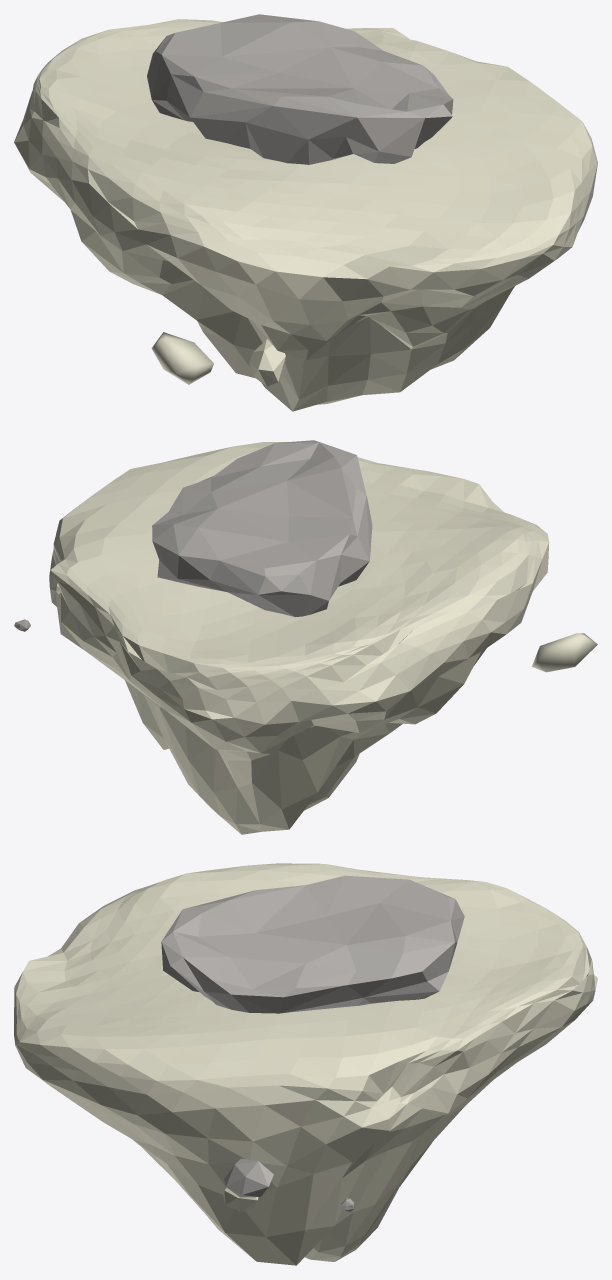
Rendered from asters.fbx.
3 renders of one model, top to bottom at view 1: azimuth 30°, elevation 25°; view 2: azimuth 150°, elevation 25°; view 3: azimuth 270°, elevation 25°, orthographic. The views are drawn at different scales.
Parts seen in each view (by area): view 1: aster_central, aster_1; view 2: aster_central, aster_1; view 3: aster_central, aster_1.
Boxes of the visible parts, x1,y1,x2,y2 form: aster_central: [14, 19, 597, 411]; aster_1: [147, 14, 453, 164]; aster_central: [14, 442, 597, 834]; aster_1: [152, 440, 372, 616]; aster_central: [14, 863, 597, 1265]; aster_1: [161, 875, 464, 1013].
Bounding box in the file's own units: 94 × 63.8 × 101.
